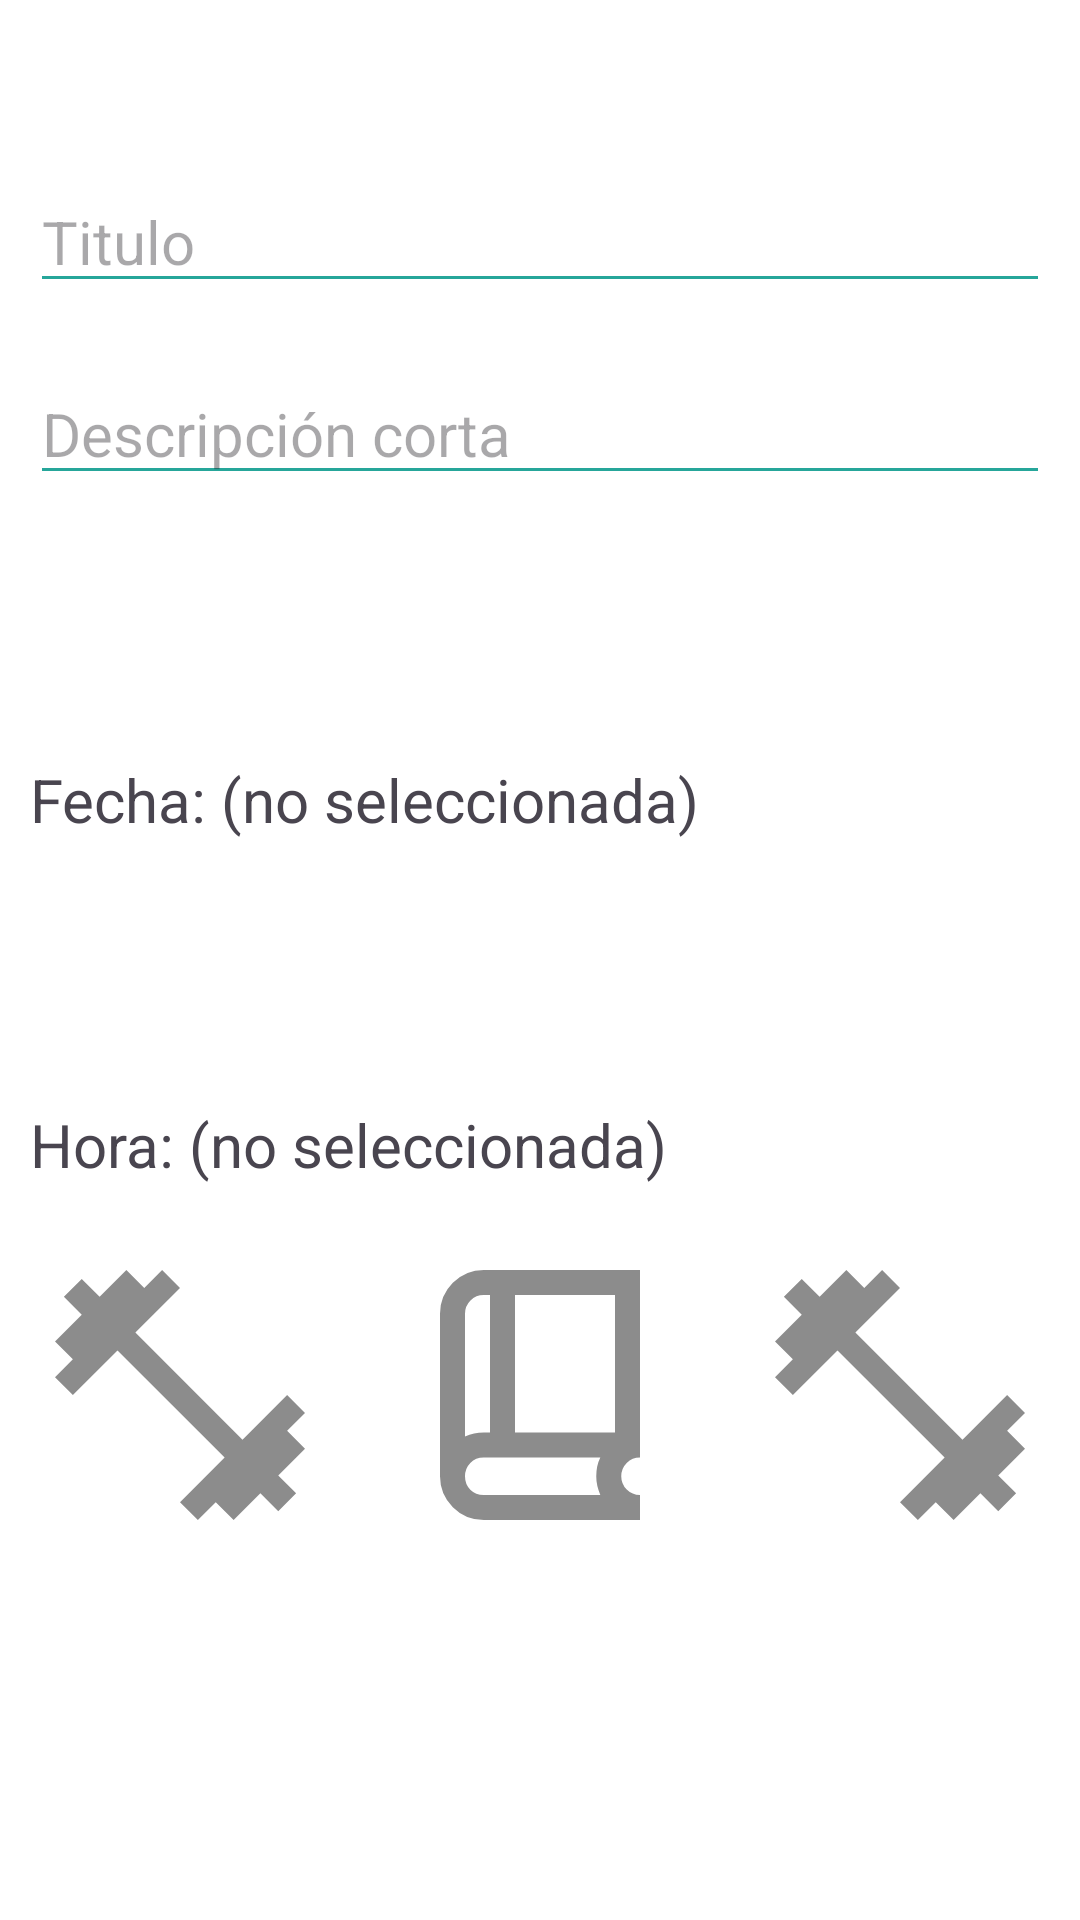

Named icons in this screenshot (1080×1920) and their centers, (x=x, y=y):
book: (x=540, y=1395)
fitness: (x=180, y=1395), (x=900, y=1395)
